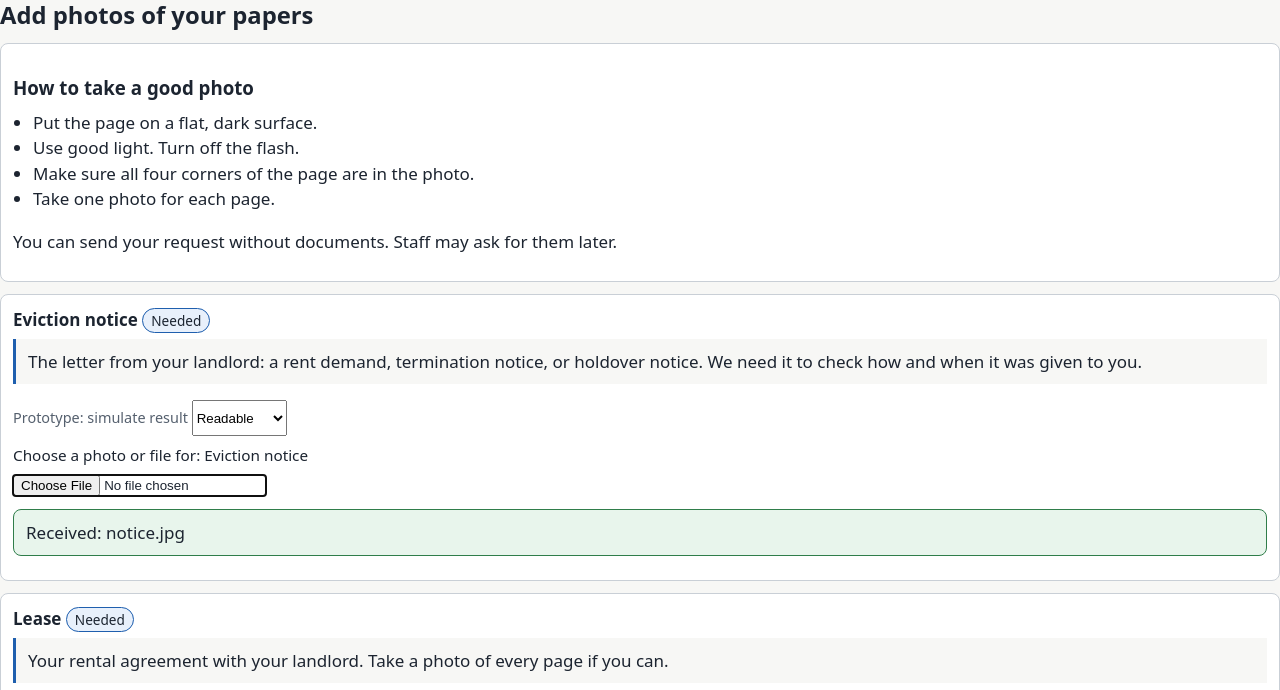
Test: UploadStep › US3-AS2 / FR-016 changing the simulated result after upload flags a wrong page
This screenshot has width=1280, height=690.
Earlier steps of the test are not shown.
Select "Wrong page" in the dropdown with test id "simulate-evictionNotice" at (239, 418), box 192,400 -> 287,436
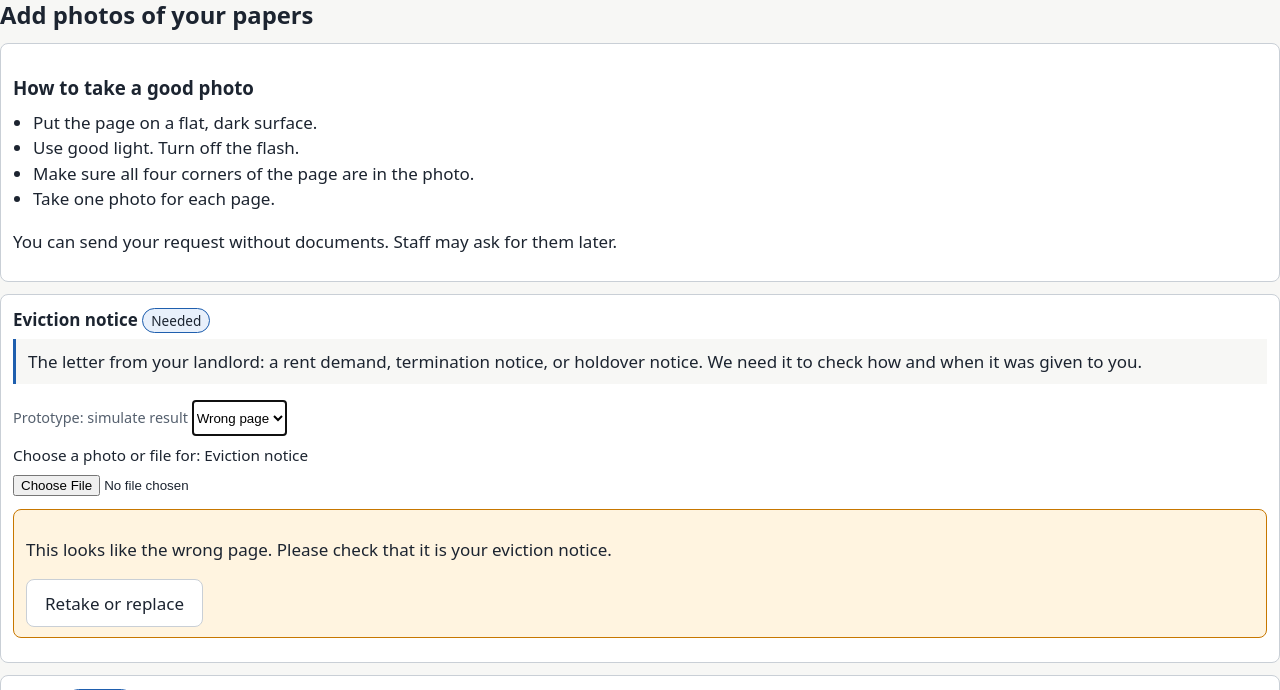
Expected: the message with test id "doc-problem-evictionNotice" shows "wrong page", 26,538 -> 612,561
